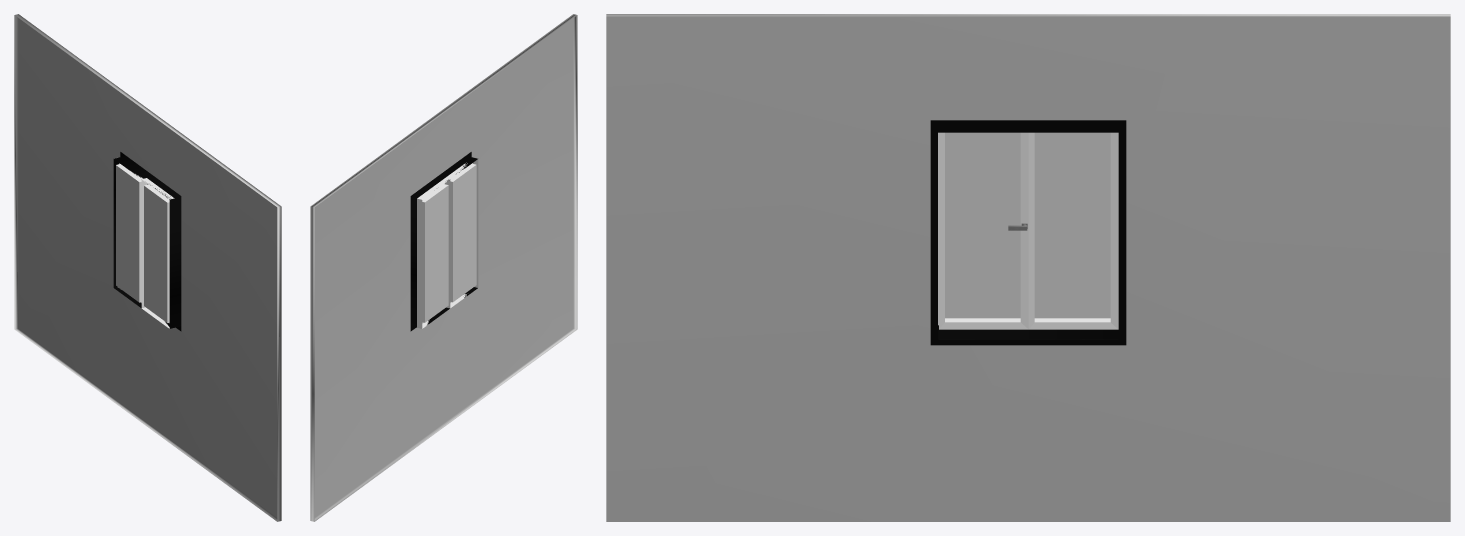
Rendered from WALL_WindowOffice_Clean.fbx.
3 renders of one model, left to right at view 1: azimuth 30°, elevation 25°; view 2: azimuth 150°, elevation 25°; view 3: azimuth 270°, elevation 25°, orthographic. The views are drawn at different scales.
Visible parts, largest first — view 1: WALL_WindowOffice_Clean; view 2: WALL_WindowOffice_Clean; view 3: WALL_WindowOffice_Clean.
Boxes of the visible parts, left/top/right/bottom form: WALL_WindowOffice_Clean: left=14, top=14, right=281, bottom=521; WALL_WindowOffice_Clean: left=310, top=14, right=577, bottom=521; WALL_WindowOffice_Clean: left=606, top=14, right=1450, bottom=521.
Bounding box in the file's own units: 23.65 × 378 × 572.
